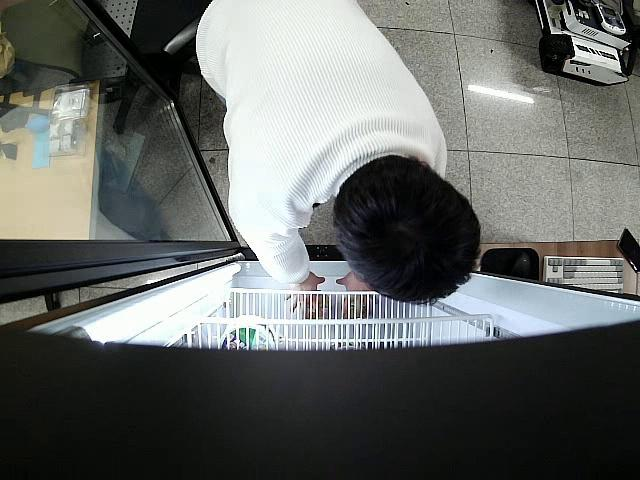00_hand: (283, 273, 326, 318), (335, 274, 374, 320)
04_chapagetti_S: (299, 288, 330, 317)
